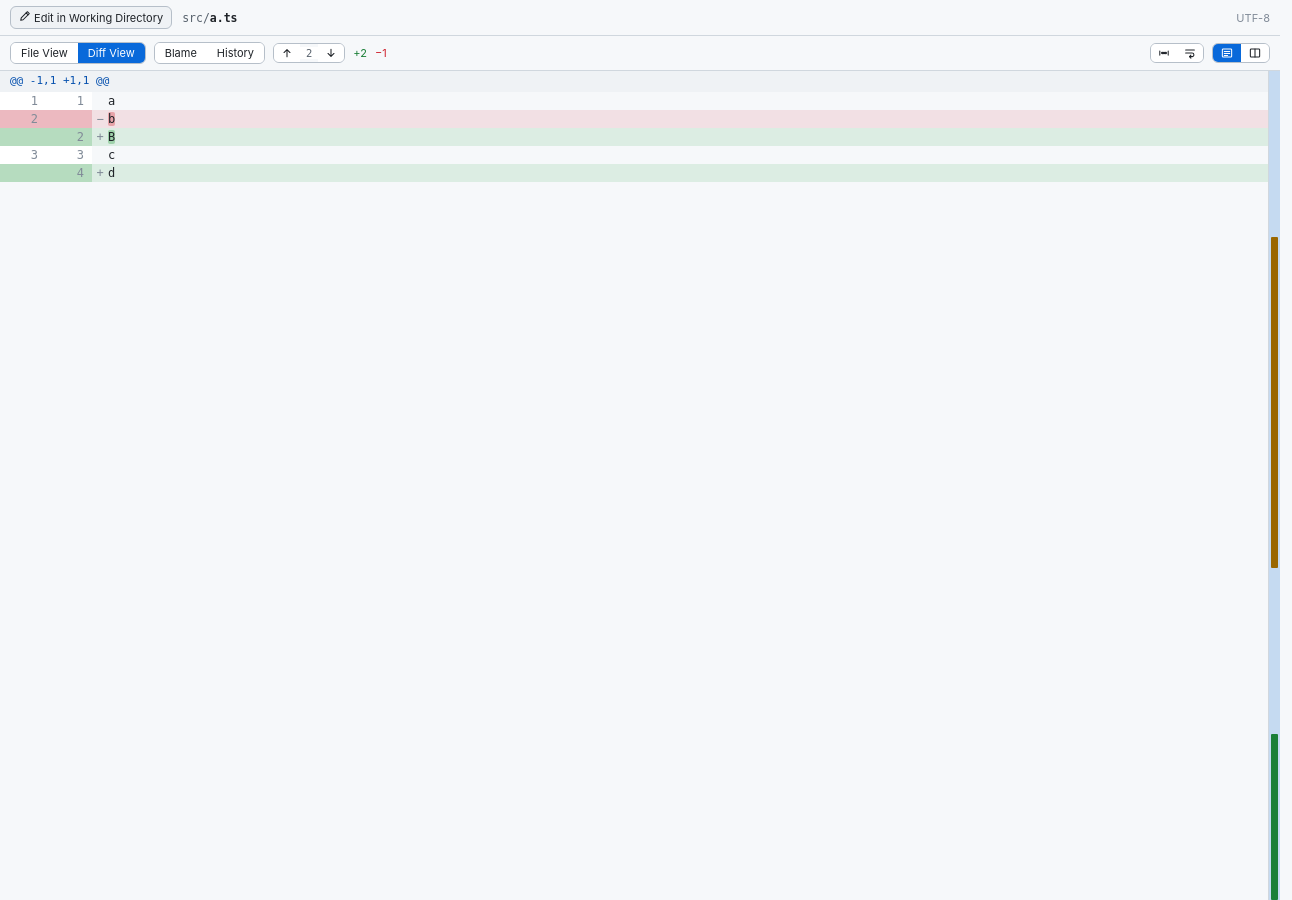
Test case: the change stepper › wraps at both ends, so you can tell you have seen them all
Click the button named "Next change" at (331, 53), box [318, 44, 344, 62]
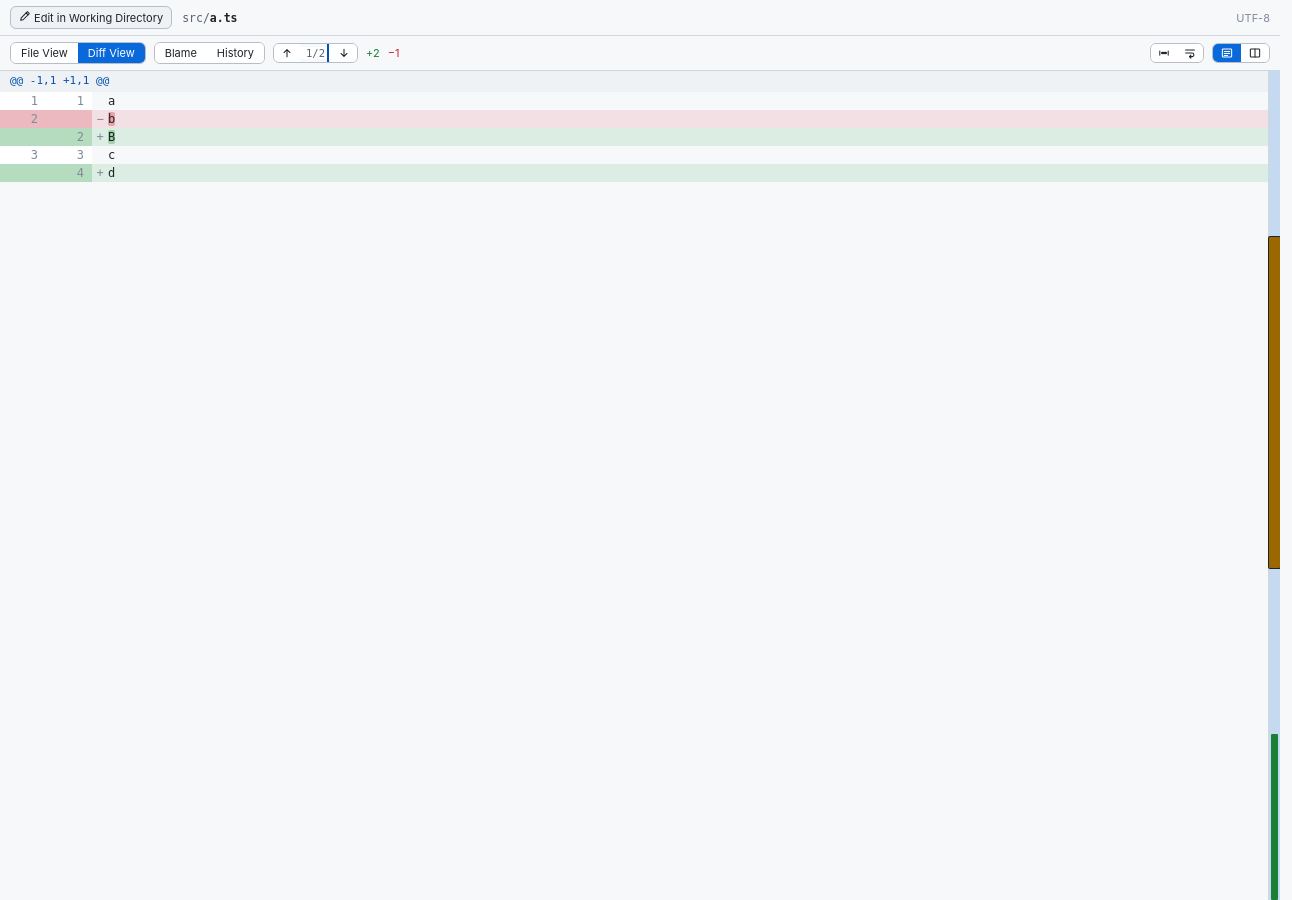
Click the button named "Next change" at (344, 53), box [331, 44, 357, 62]
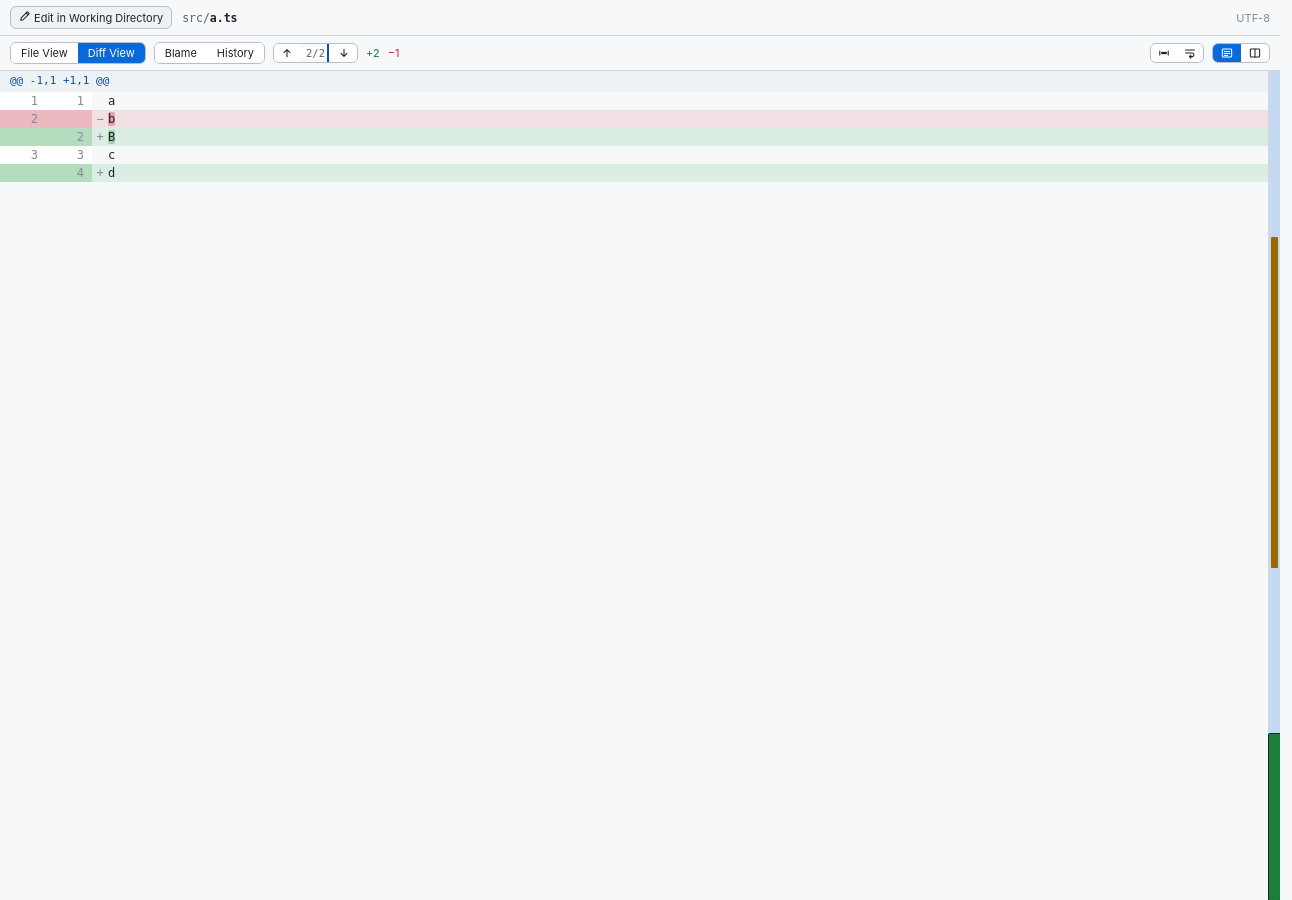
expect the text "2/2" is shown: met, box [300, 47, 331, 59]
Click the button named "Next change" at (344, 53), box [331, 44, 357, 62]
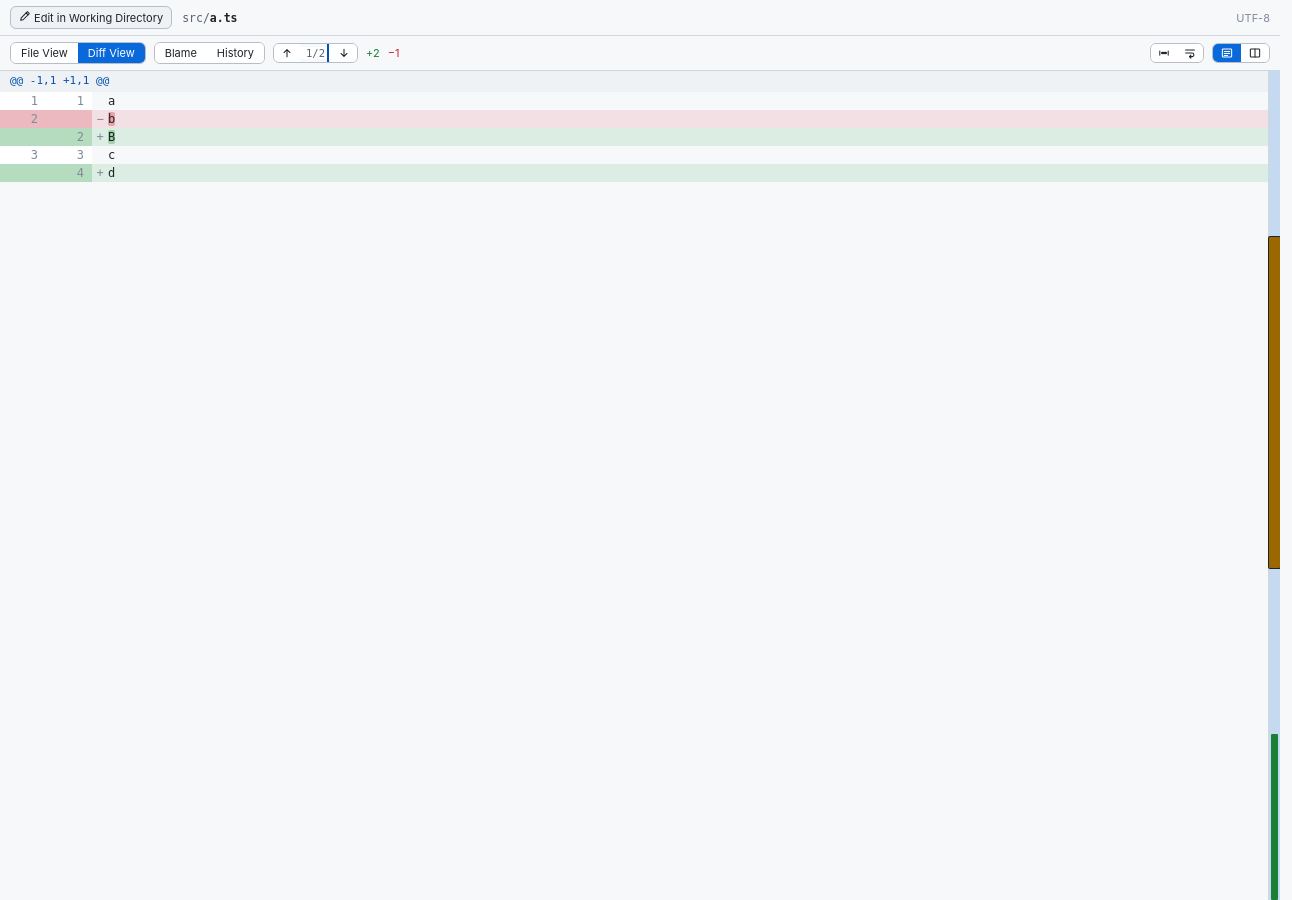
expect the text "1/2" is shown: met, box [300, 47, 331, 59]
Click the button named "Previous change" at (287, 53), box [274, 44, 300, 62]
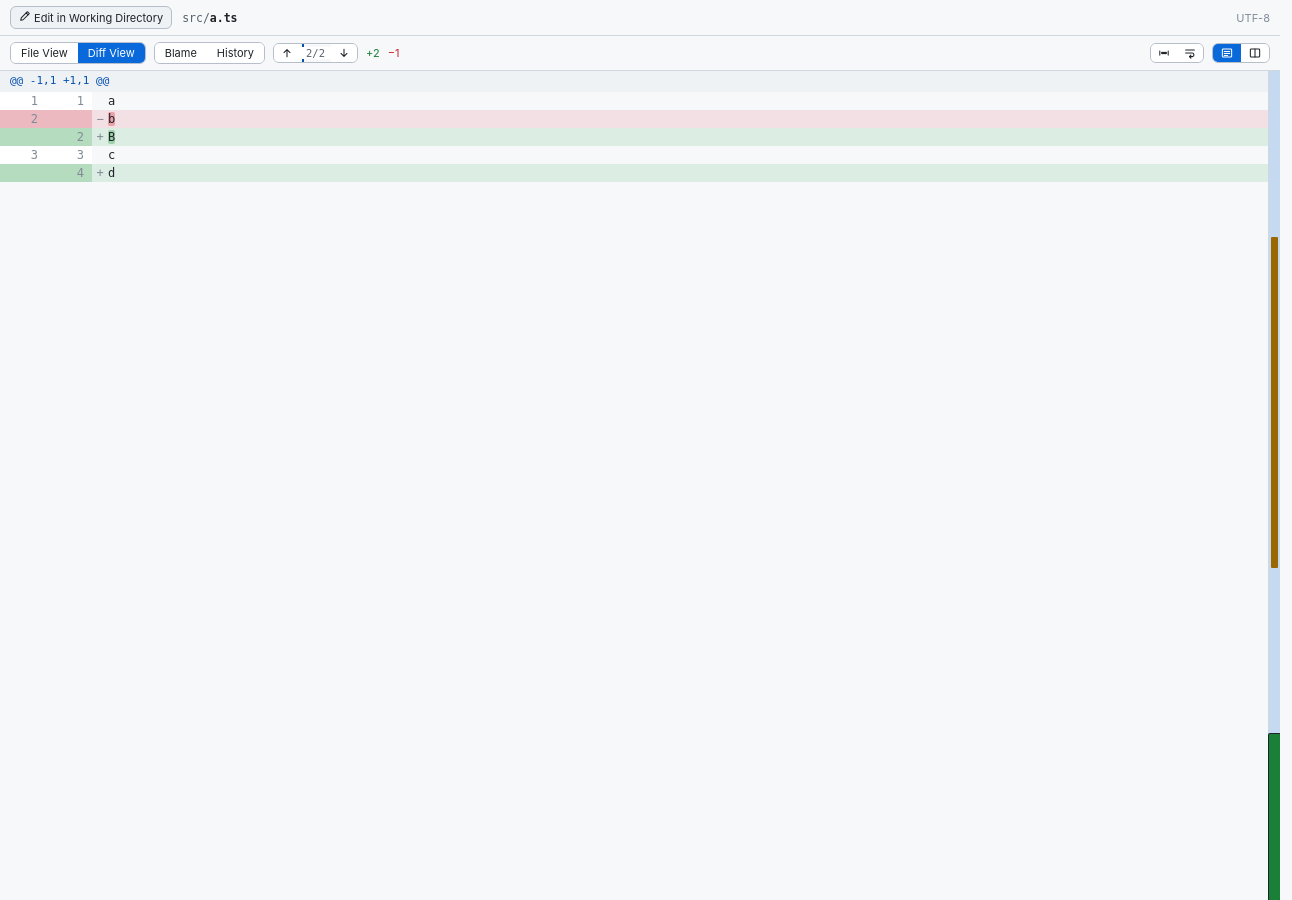
expect the text "2/2" is shown: met, box [300, 47, 331, 59]
